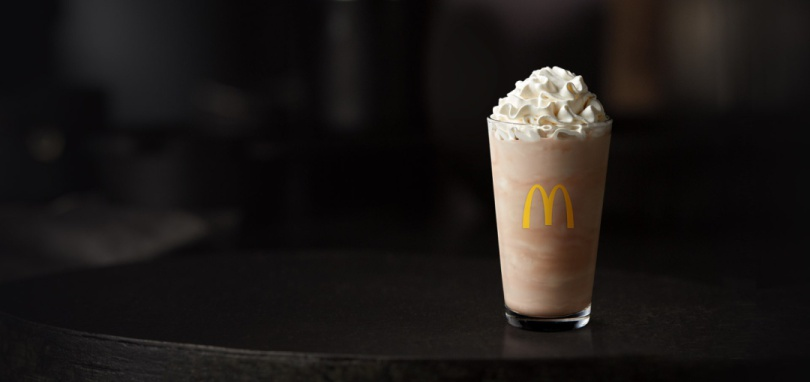mcdonalds: (518, 182, 579, 234)
